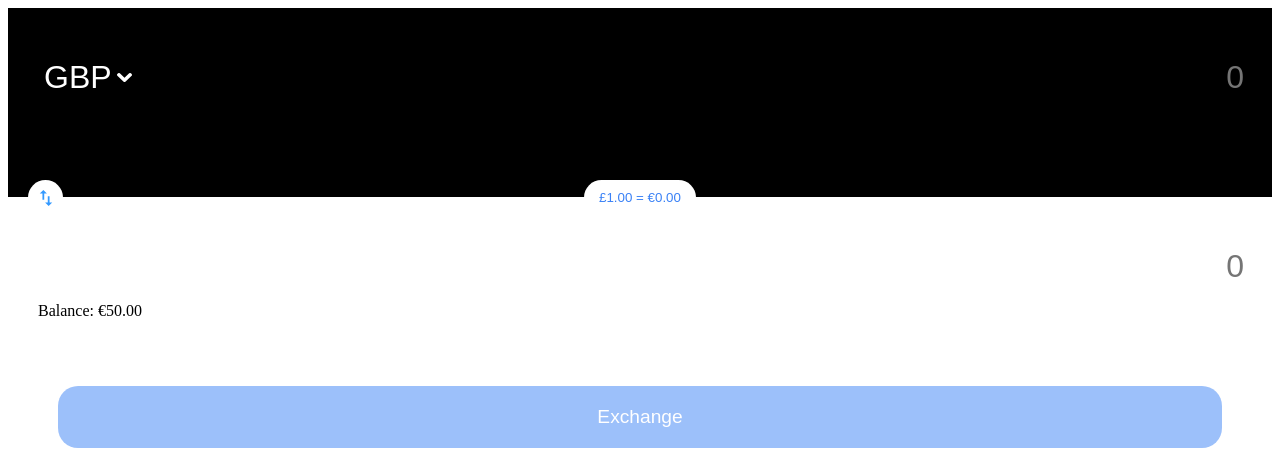
Test: Coverter Cta to be enabled if value
In the 1st field with test id "display-input": (1032, 78) [818,58,1246,97], type "1"
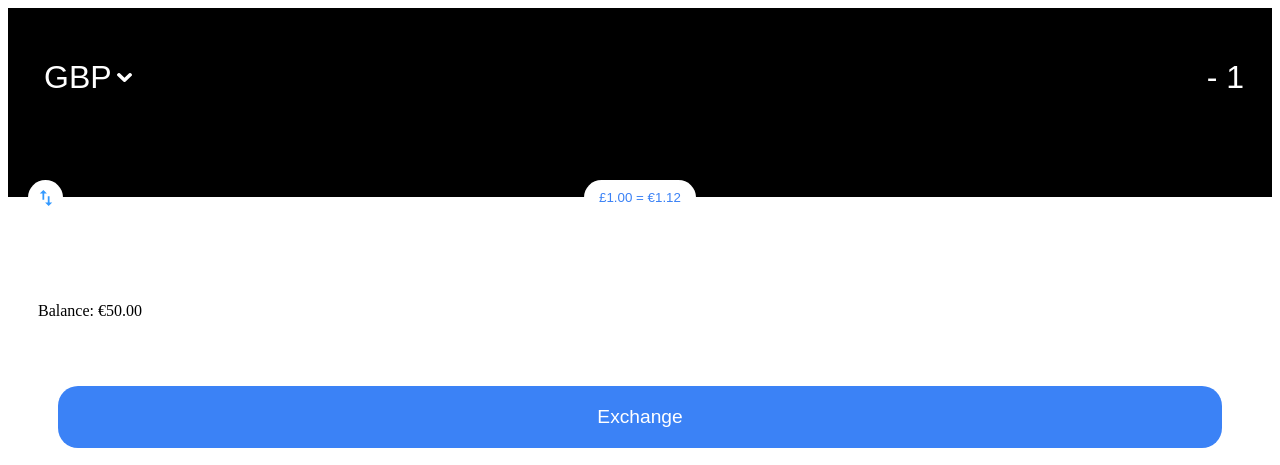
Now the button "Exchange" is enabled, box [58,386,1222,448]
